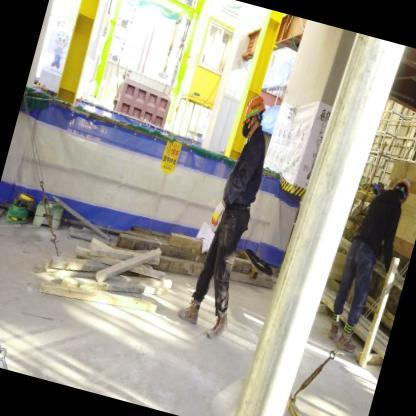Helmet: (234, 89, 269, 123)
safety-shoe: (169, 290, 207, 334), (201, 312, 233, 352)
